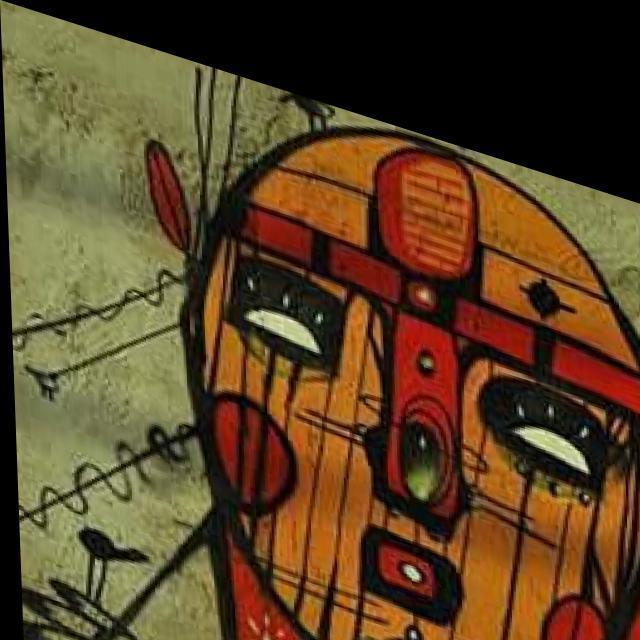-: (77, 20, 640, 640)
